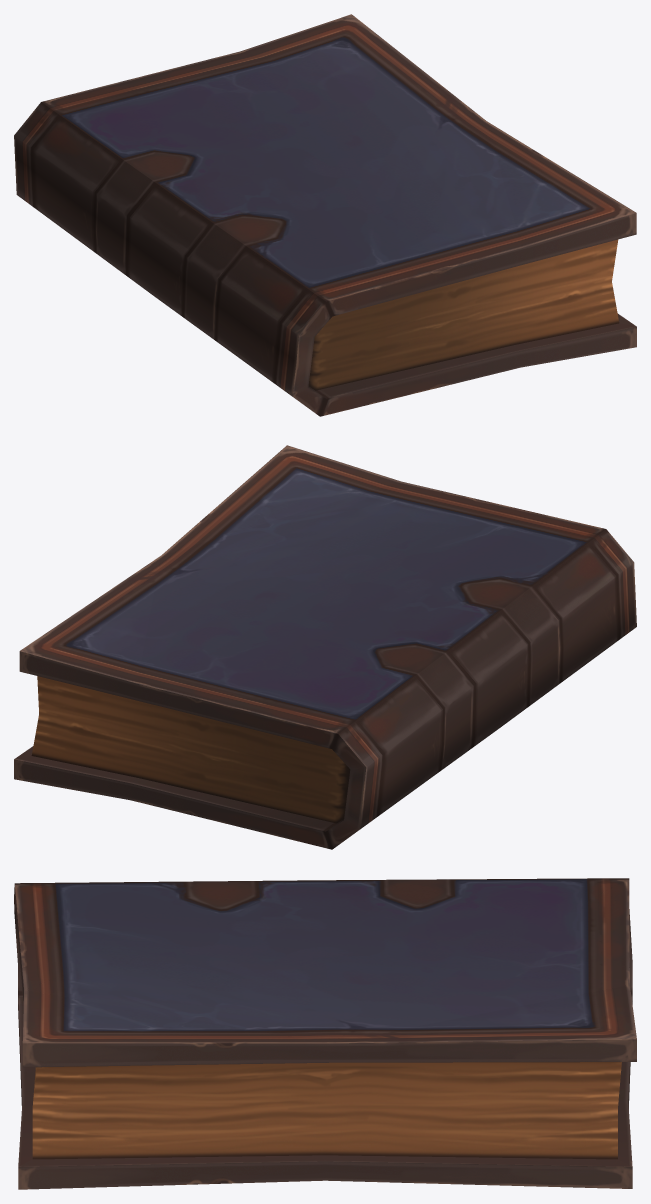
The model's file is Book_7.FBX.
The picture shows the model from 3 angles, top to bottom: view 1: azimuth 30°, elevation 25°; view 2: azimuth 150°, elevation 25°; view 3: azimuth 270°, elevation 25°; orthographic projection. The views are drawn at different scales.
Visible parts, largest first — view 1: Book_7; view 2: Book_7; view 3: Book_7.
Part boxes in pixels (x1,y1,x2,y2): Book_7: (14,14,636,416); Book_7: (14,445,636,849); Book_7: (14,878,636,1189).
Size of the model in its own units: 285 by 103 by 393.
